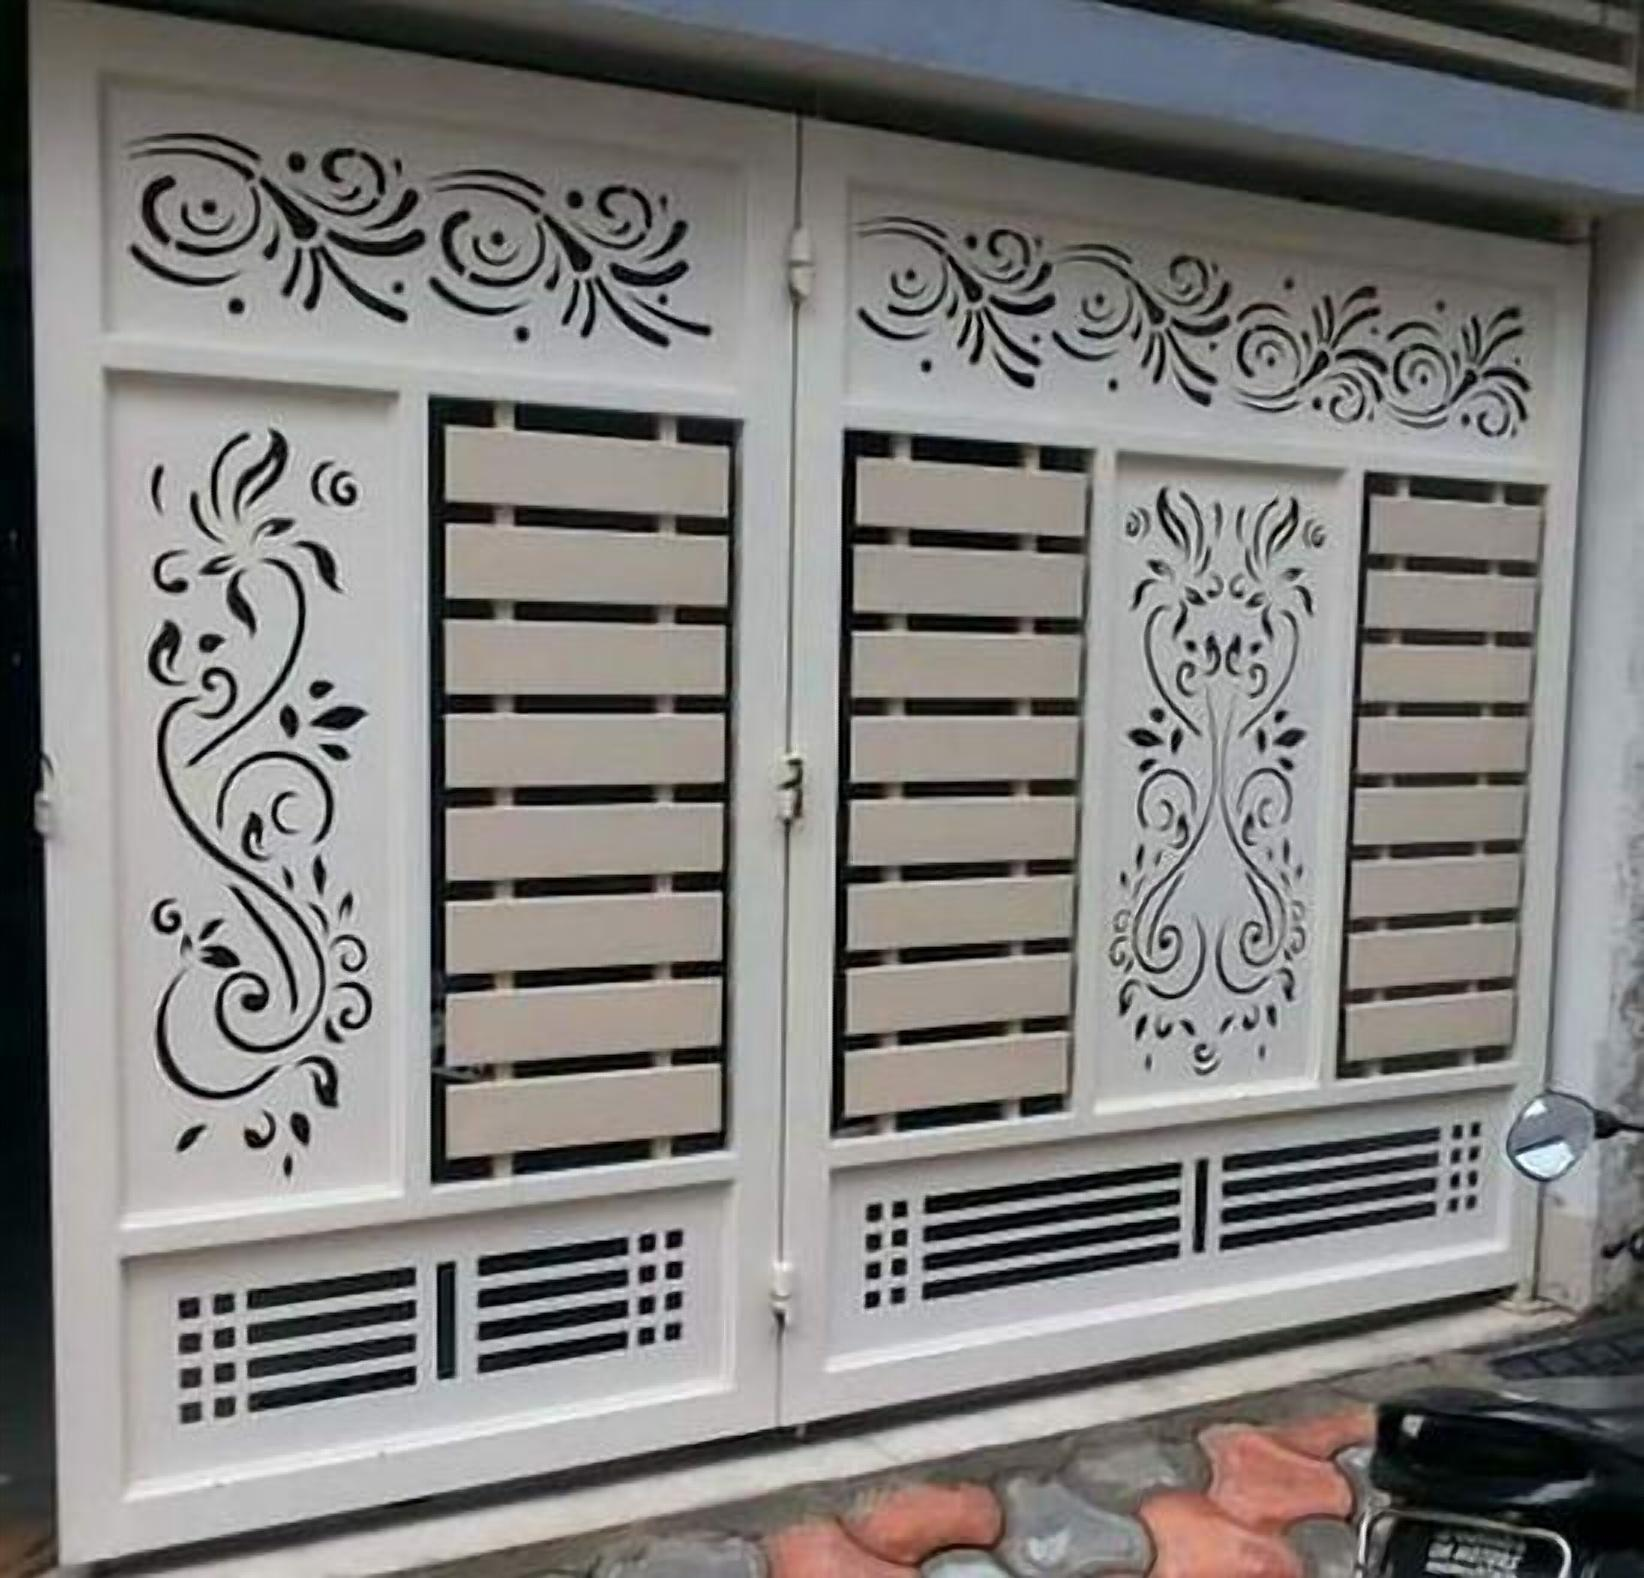Gate: (0, 0, 1594, 1578)
Two-wheeler: (1340, 1090, 1644, 1578)
